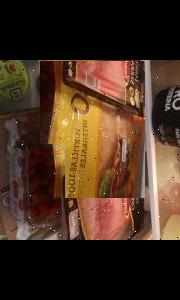Tomate: (11, 144, 64, 228)
